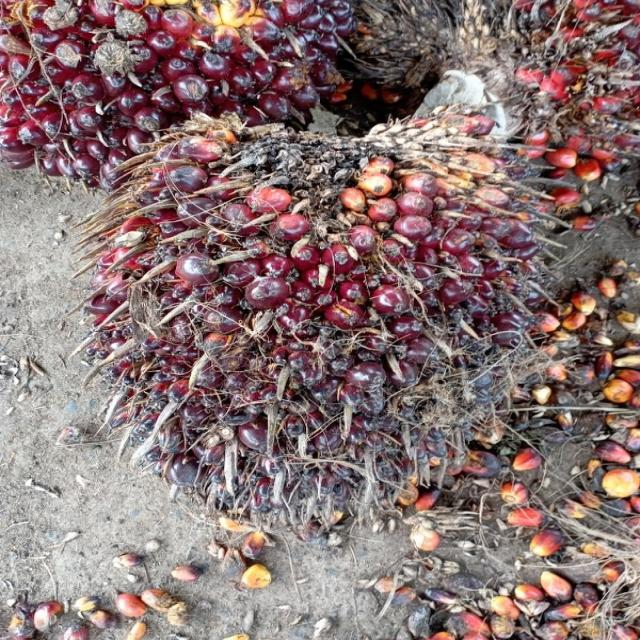fraksi 1: (88, 111, 532, 512)
